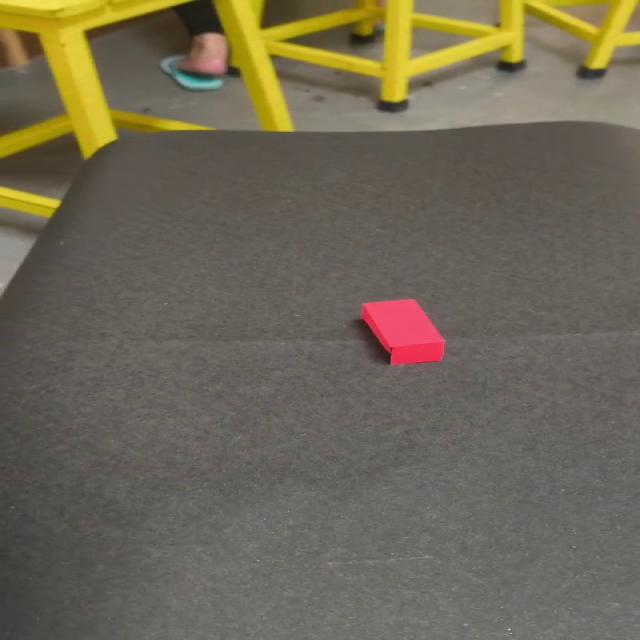red block: (359, 298, 445, 365)
